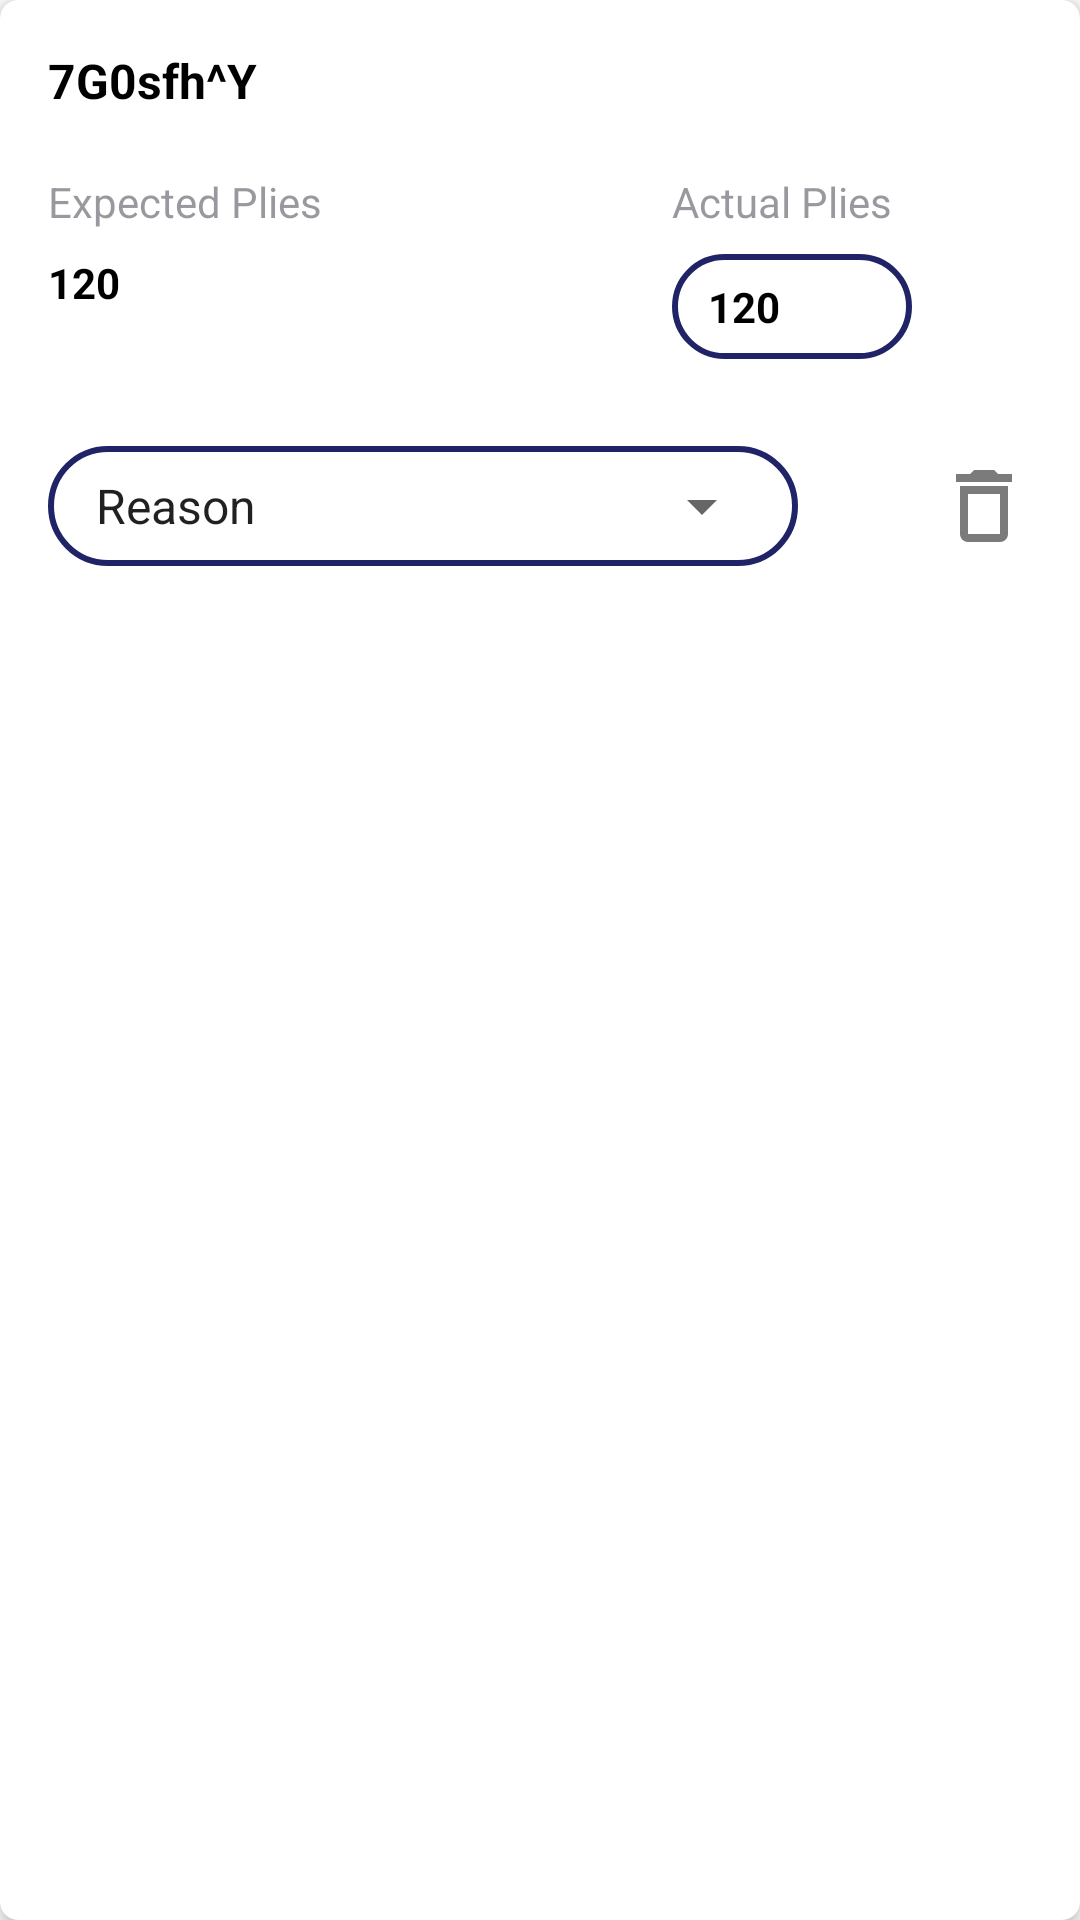

Screen size 1080 x 1920. Icon name, then its box in pixels as bbox=(x1, y1, x2, y2):
delete: bbox=(956, 470, 1012, 542)
